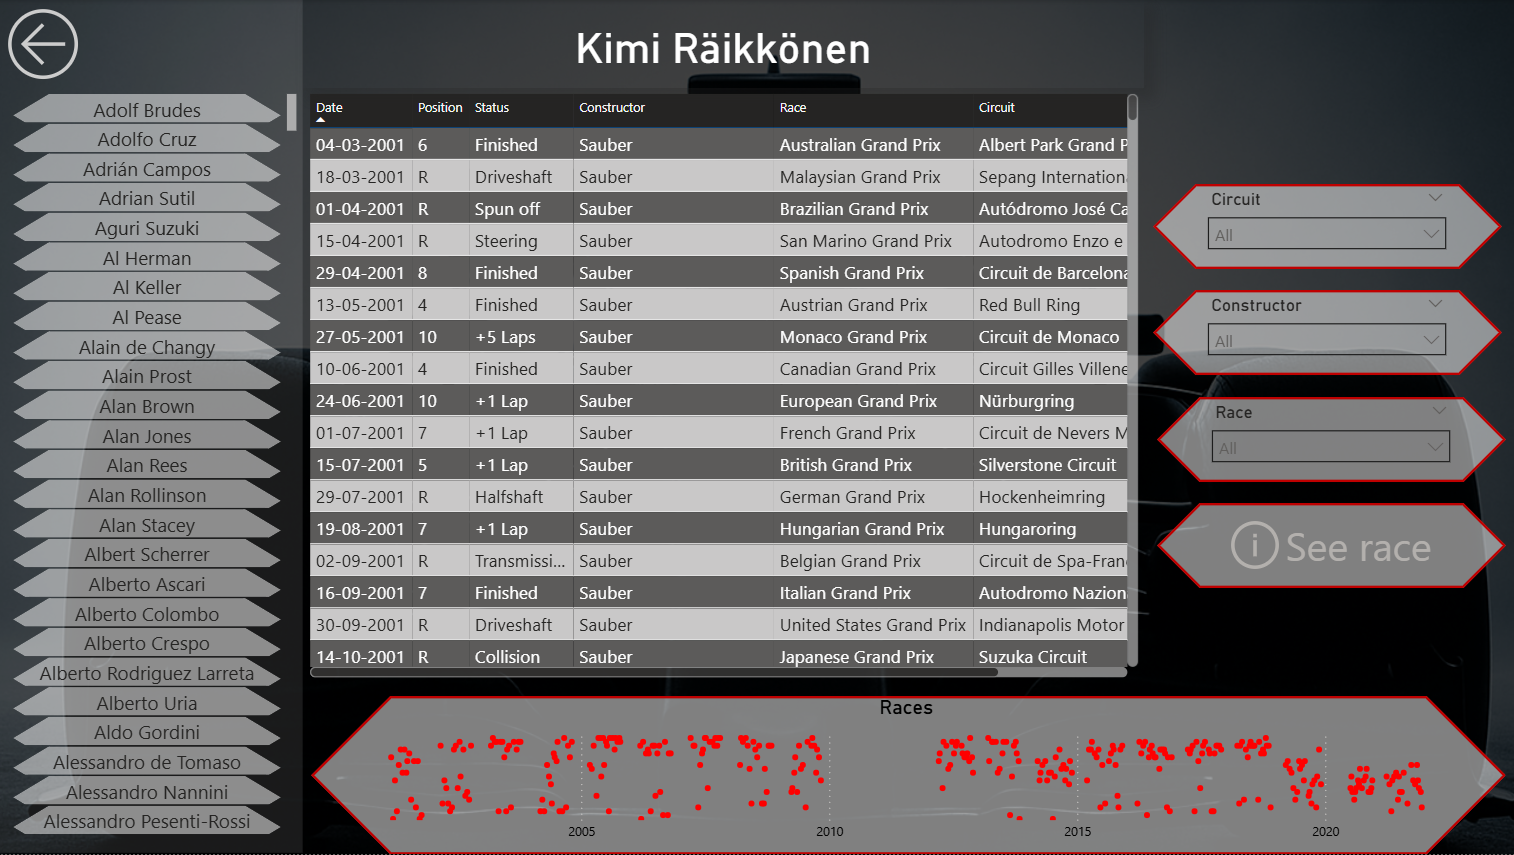

What the dashboard file says about the page in this screenshot:
{"tool":"powerbi","page":{"name":"Drivers - Races","canvas":[1280,720],"ordinal":6},"visuals":[{"type":"shape","box":[0,0,256.2,719.4],"z":0},{"type":"shape","box":[973.1,245.1,294.3,71.7],"z":0,"group":"g1"},{"type":"listSlicer","fields":{"Values":["drivers.Driver Name"]},"box":[6.9,74.3,249.1,645.5],"z":1000},{"type":"tableEx","fields":{"Values":["races.date","results.positionText","status.status","constructors.name","races.name","circuits.name","races.raceId"]},"box":[256,74.3,708.8,502.4],"z":2000},{"type":"slicer","fields":{"Values":["constructors.name"]},"box":[1009.7,245.1,221.1,72],"z":2000,"group":"g1"},{"type":"card","fields":{"Values":["Min(drivers.Driver Name)"]},"box":[256,0,708.8,74.3],"z":3000},{"type":"shape","box":[973.1,155.5,294.3,71.7],"z":4000,"group":"g1"},{"type":"shape","box":[263.1,586.5,1007.4,133.7],"z":4000},{"type":"slicer","fields":{"Values":["circuits.name"]},"box":[1009.7,155.5,221.1,71.7],"z":5000,"group":"g1"},{"type":"lineChart","title":"Races","fields":{"Category":["races.date"],"Y":["Max(results.positionOrder)"]},"box":[313.8,586.3,902.9,133.5],"z":5000},{"type":"actionButton","box":[0,0,78.5,74.3],"z":6000},{"type":"group","id":"g1","title":"Group 1","box":[973.1,155.5,297.3,340],"z":7000},{"type":"shape","box":[976.1,424.4,294.3,71.7],"z":8000,"group":"g1"},{"type":"shape","box":[976.1,334.8,294.3,71.7],"z":10000,"group":"g1"},{"type":"slicer","fields":{"Values":["races.name"]},"box":[1012.4,334.8,221.1,71.7],"z":11000,"group":"g1"},{"type":"actionButton","box":[1033.3,434,178.9,52.3],"z":12000,"group":"g1"}]}

Visuals, with their boxes in screenshot pixels (x1, y1, x2, y2), scaled from the page's 1280x720 canvas onto the 1514x855 screenshot:
shape: bbox=[0, 0, 303, 854]
shape: bbox=[1151, 291, 1499, 376]
listSlicer - drivers.Driver Name: bbox=[8, 88, 303, 854]
tableEx - races.date x results.positionText: bbox=[303, 88, 1141, 685]
slicer - constructors.name: bbox=[1194, 291, 1456, 377]
card - Min(drivers.Driver Name): bbox=[303, 0, 1141, 88]
shape: bbox=[1151, 185, 1499, 270]
shape: bbox=[311, 696, 1503, 854]
slicer - circuits.name: bbox=[1194, 185, 1456, 270]
"Races" lineChart: bbox=[371, 696, 1439, 854]
actionButton: bbox=[0, 0, 93, 88]
"Group 1" group: bbox=[1151, 185, 1503, 588]
shape: bbox=[1155, 504, 1503, 589]
shape: bbox=[1155, 398, 1503, 483]
slicer - races.name: bbox=[1197, 398, 1459, 483]
actionButton: bbox=[1222, 515, 1434, 577]
